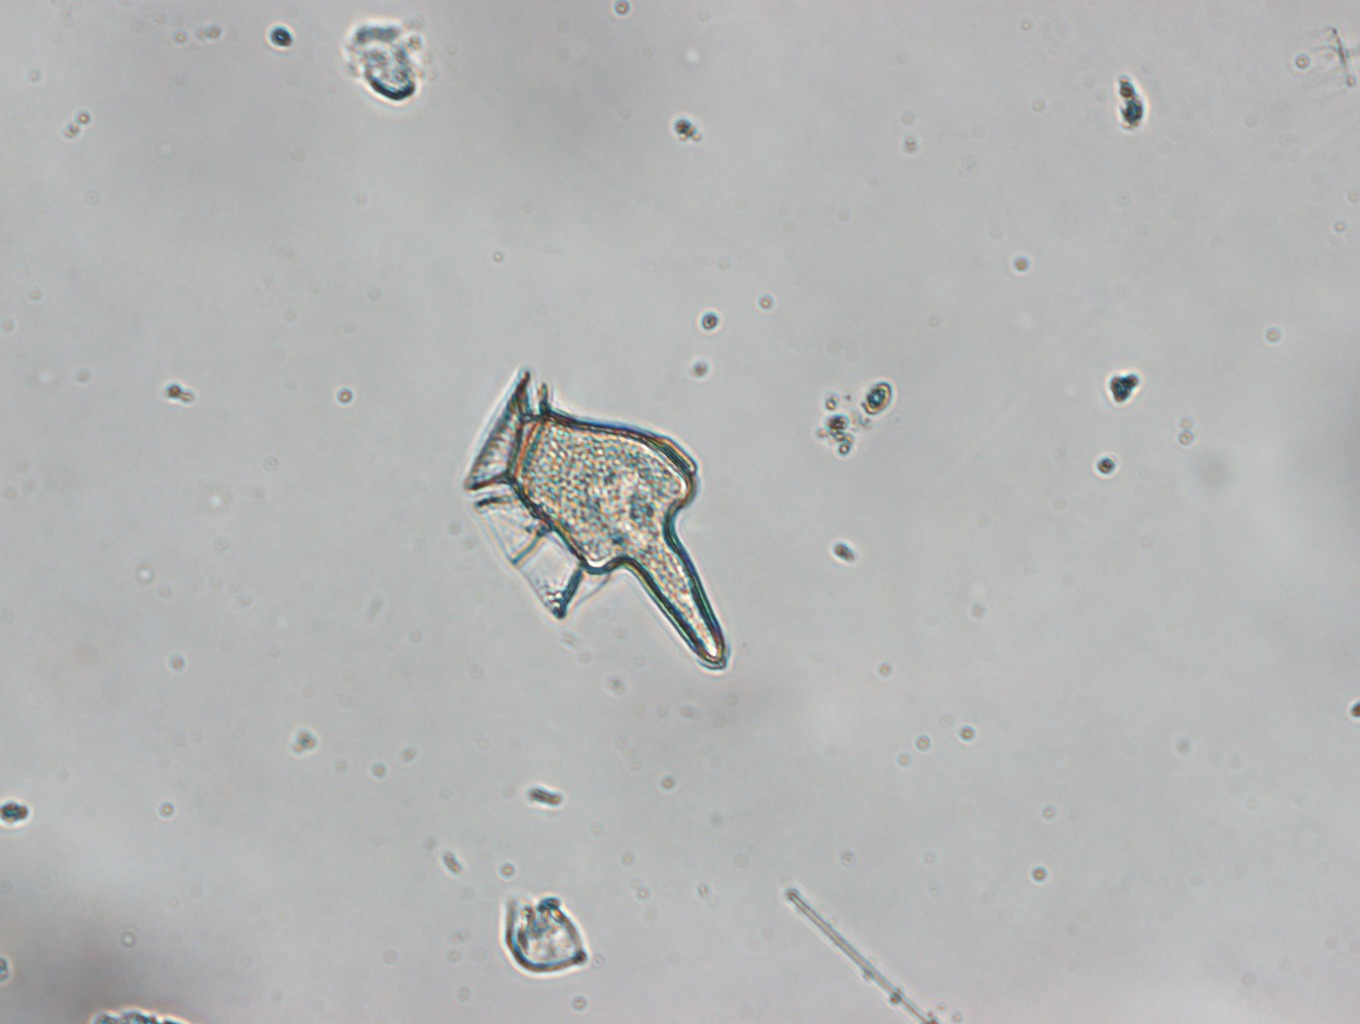dinophysis caudata: (461, 370, 729, 667)
